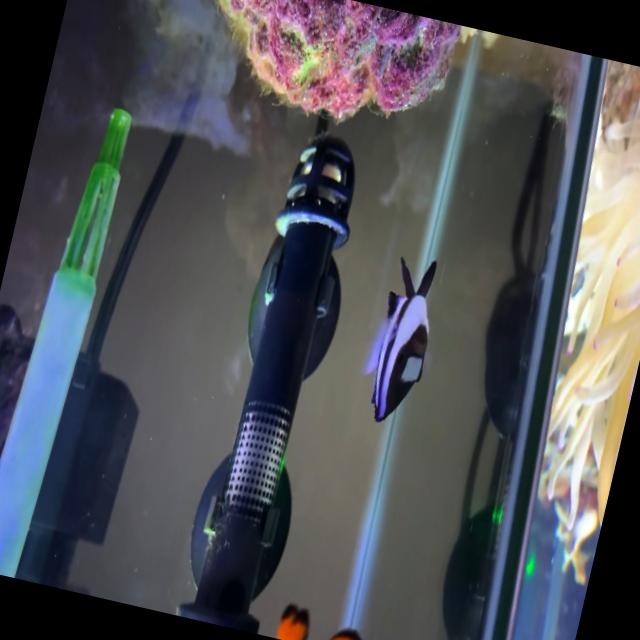ThreeStripedDamselfish: (362, 254, 436, 421)
